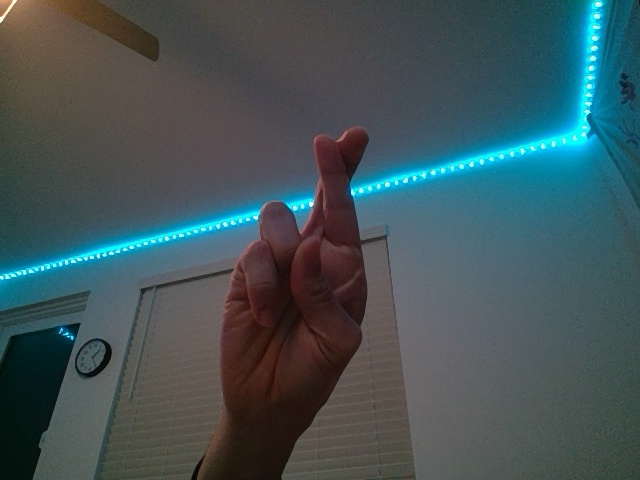r: (216, 125, 370, 433)
